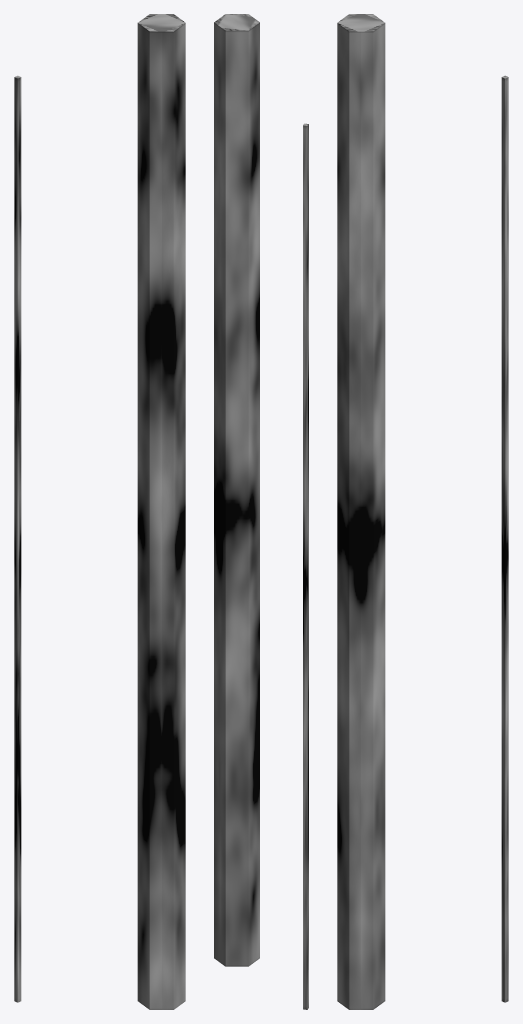
File: bow.glb
The picture shows the model from 3 angles, left to right: view 1: azimuth 90°, elevation 25°; view 2: azimuth 210°, elevation 25°; view 3: azimuth 270°, elevation 25°; orthographic projection. The views are drawn at different scales.
Visible parts, largest first — view 1: bow; view 2: bow; view 3: bow.
Part boxes in pixels (x1,y1,x2,y2): bow: (14, 14, 185, 1009); bow: (214, 14, 308, 1009); bow: (337, 14, 508, 1009).
Size of the model in its own units: 0.0346 by 0.9 by 0.143.
1 material, 1 textured.
